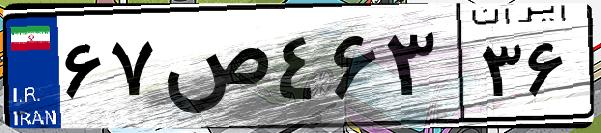3: (385, 28, 445, 110), (475, 38, 525, 113)
4: (270, 28, 330, 110)
6: (330, 28, 385, 110), (57, 26, 110, 100), (525, 38, 570, 115)
7: (110, 28, 158, 98)
ص: (158, 20, 270, 120)
